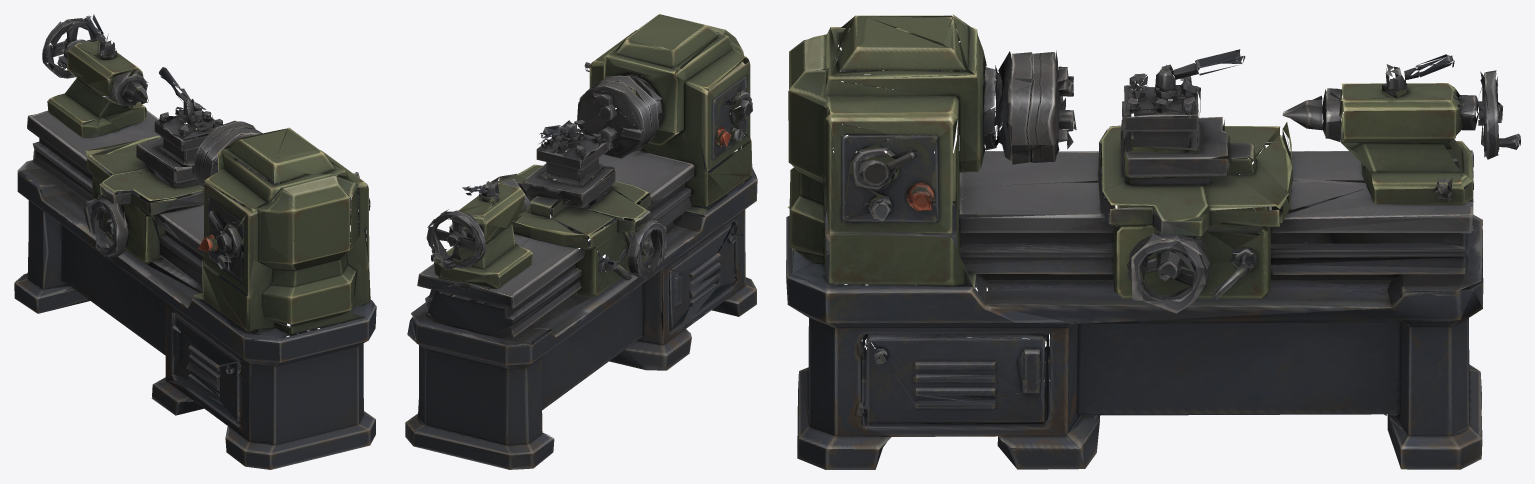
Rendered from machine_shop_lod1.glb.
3 renders of one model, left to right at view 1: azimuth 30°, elevation 25°; view 2: azimuth 150°, elevation 25°; view 3: azimuth 270°, elevation 25°, orthographic. The views are drawn at different scales.
Visible parts, largest first — view 1: LOD1; view 2: LOD1; view 3: LOD1.
Boxes of the visible parts, x1,y1,x2,y2 form: LOD1: (14, 14, 376, 469); LOD1: (405, 14, 757, 469); LOD1: (786, 14, 1520, 469).
Size of the model in its own units: 0.8625 by 1.29 by 2.17.
Materials: 1 (1 with a texture image).
